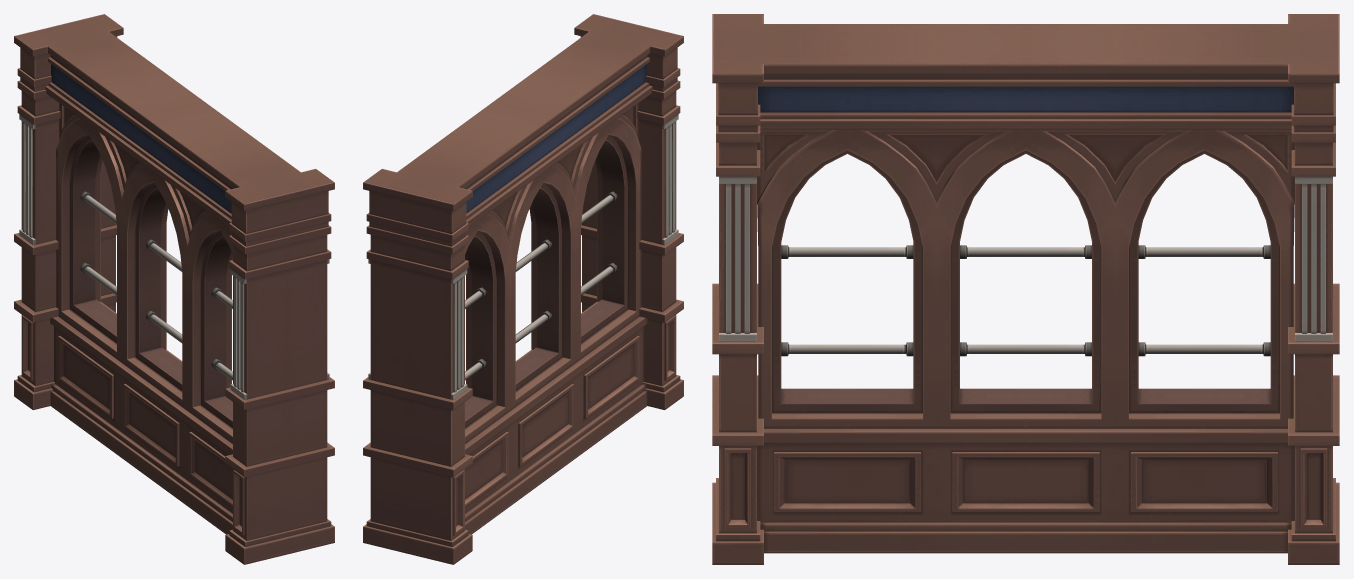
The model's file is my_wildhunt_01_partition_01.glb.
3 renders of one model, left to right at view 1: azimuth 30°, elevation 25°; view 2: azimuth 150°, elevation 25°; view 3: azimuth 270°, elevation 25°, orthographic. The views are drawn at different scales.
Visible parts, largest first — view 1: my_wildhunt_01_partition_01; view 2: my_wildhunt_01_partition_01; view 3: my_wildhunt_01_partition_01.
Part boxes in pixels (bbox=[...]): my_wildhunt_01_partition_01: bbox=[14, 14, 334, 564]; my_wildhunt_01_partition_01: bbox=[363, 14, 683, 564]; my_wildhunt_01_partition_01: bbox=[712, 14, 1339, 564].
Size of the model in its own units: 0.00544 by 0.0207 by 0.024.
1 material, 1 textured.
